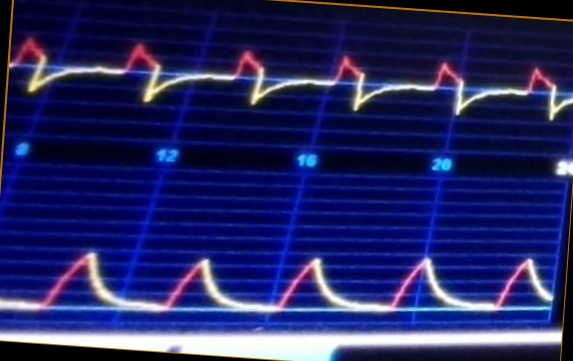Accumulation Flow: (12, 22, 571, 141)
Volume: (6, 233, 553, 327)
